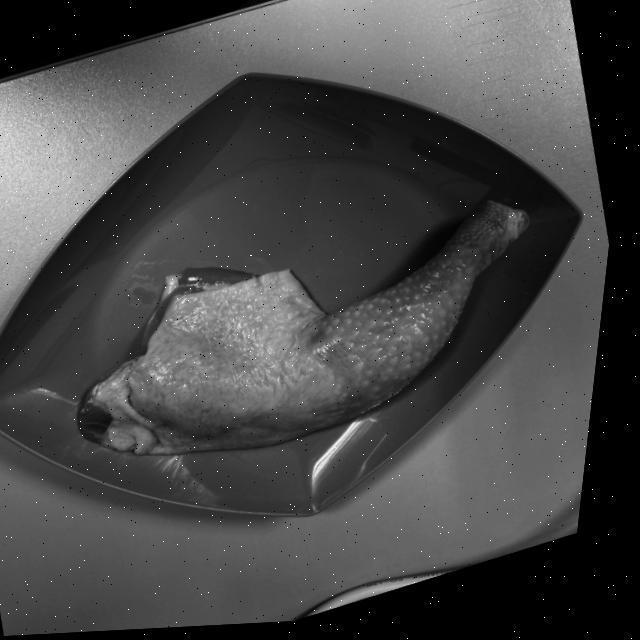quater: (84, 204, 538, 458)
